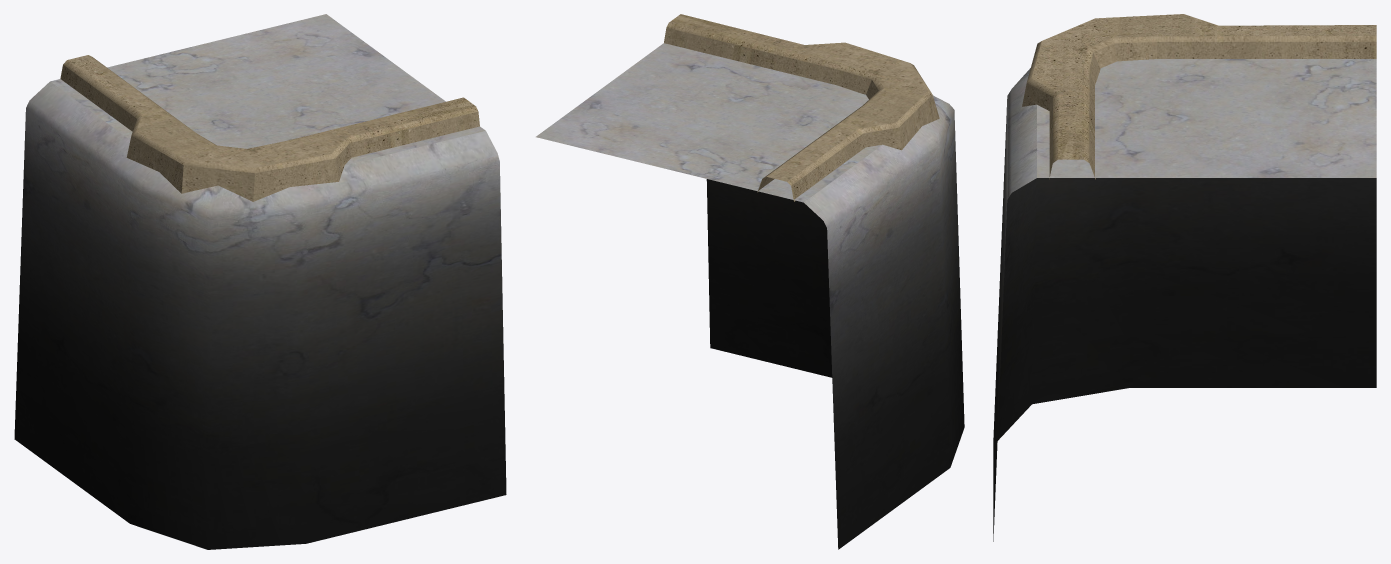
The model's file is ground-tile-depth-2.fbx.
3 renders of one model, left to right at view 1: azimuth 30°, elevation 25°; view 2: azimuth 150°, elevation 25°; view 3: azimuth 270°, elevation 25°, orthographic. The views are drawn at different scales.
Parts seen in each view (by area): view 1: ground-tile-depth-2; view 2: ground-tile-depth-2; view 3: ground-tile-depth-2.
Part boxes in pixels (<box>): ground-tile-depth-2: <box>14,14,506,549</box>; ground-tile-depth-2: <box>536,14,964,549</box>; ground-tile-depth-2: <box>993,14,1376,541</box>.
Bounding box in the file's own units: 187 × 210 × 187.
